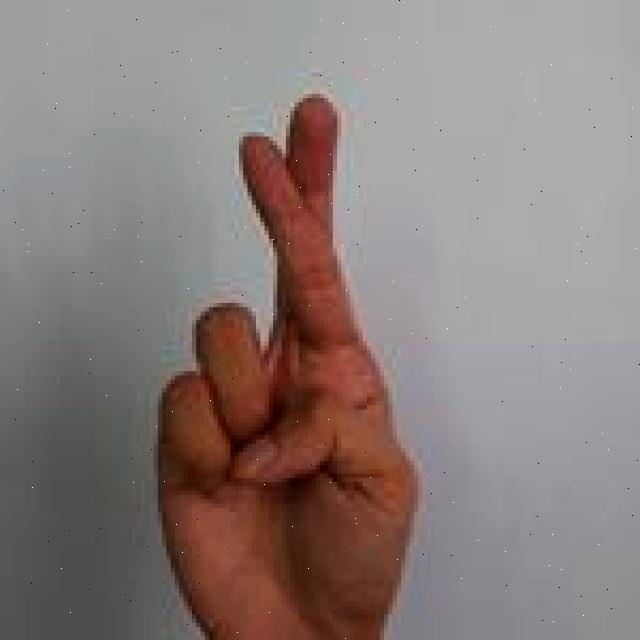R: (152, 87, 422, 640)
